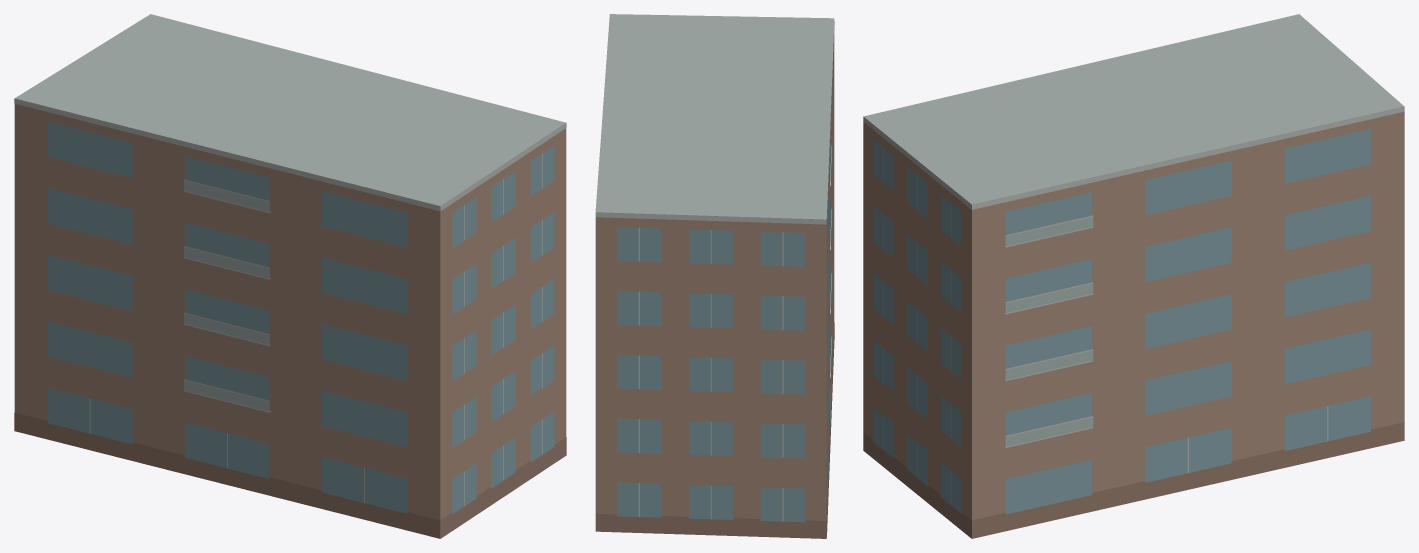
File: survey-upis-32748887.glb
The picture shows the model from 3 angles, left to right: view 1: azimuth 30°, elevation 25°; view 2: azimuth 150°, elevation 25°; view 3: azimuth 270°, elevation 25°; orthographic projection. The views are drawn at different scales.
Visible parts, largest first — view 1: survey-upis-32748887.tmp; view 2: survey-upis-32748887.tmp; view 3: survey-upis-32748887.tmp.
Boxes of the visible parts, x1,y1,x2,y2 form: survey-upis-32748887.tmp: [14, 14, 566, 538]; survey-upis-32748887.tmp: [595, 14, 834, 538]; survey-upis-32748887.tmp: [863, 14, 1404, 538].
Size of the model in its own units: 19.1 by 15.6 by 22.9.
